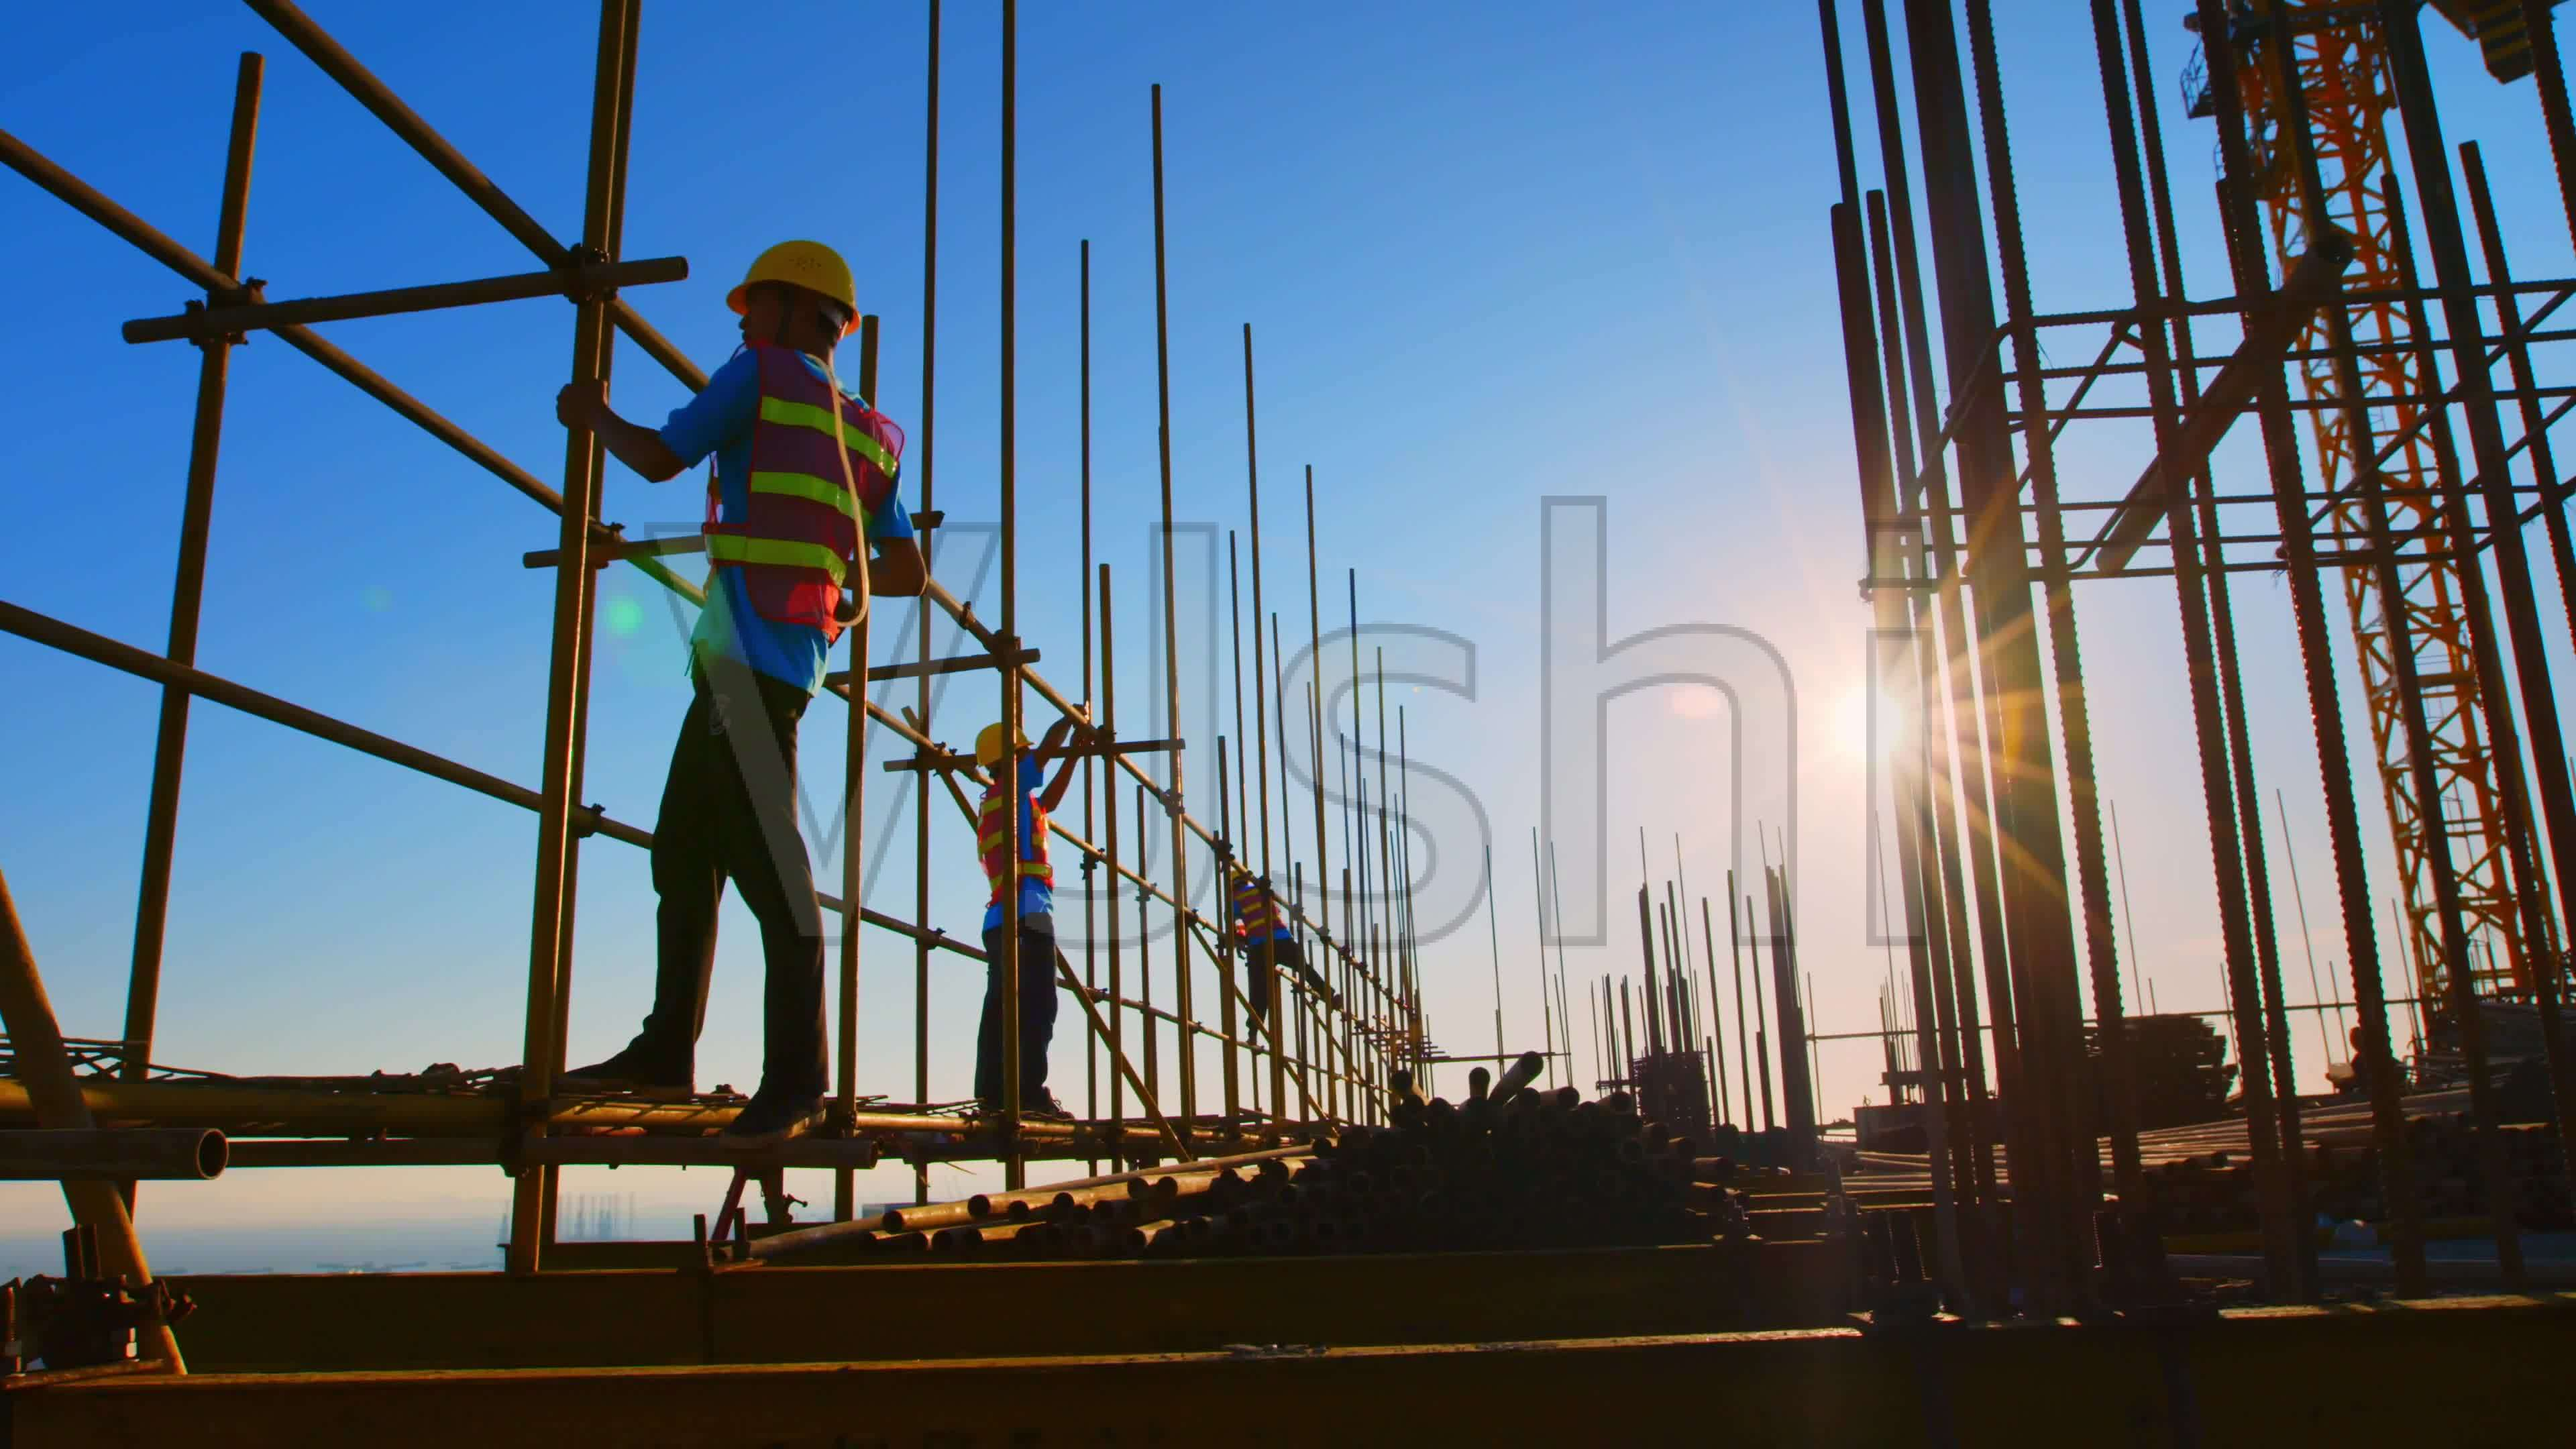safetyhat: (536, 211, 897, 1150)
